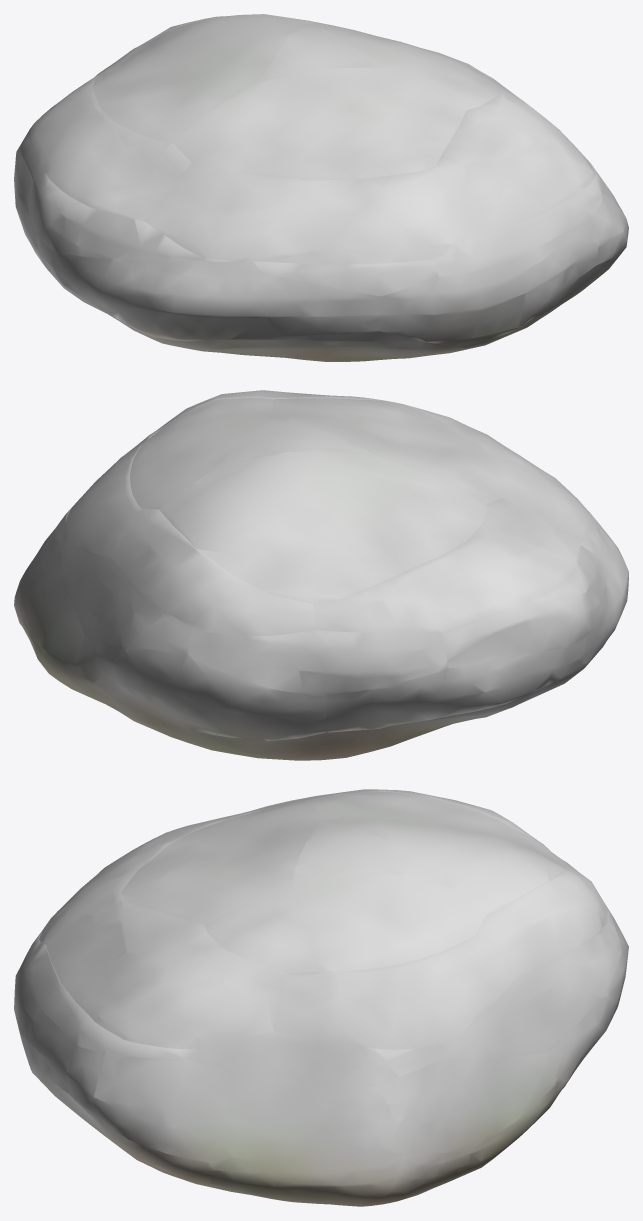
Rendered from coal_rock_v7.glb.
3 renders of one model, top to bottom at view 1: azimuth 30°, elevation 25°; view 2: azimuth 150°, elevation 25°; view 3: azimuth 270°, elevation 25°, orthographic. The views are drawn at different scales.
Parts seen in each view (by area): view 1: Chunk_23, Chunk_28, Chunk_10, Chunk_27, Chunk_24, Chunk_11, Chunk_22, Chunk_16, Chunk_04, Chunk_29, Chunk_18, Chunk_17 (+4 smaller); view 2: Chunk_27, Chunk_22, Chunk_08, Chunk_15, Chunk_21, Chunk_09, Chunk_28, Chunk_16, Chunk_29, Chunk_14, Chunk_23, Chunk_07 (+7 smaller); view 3: Chunk_24, Chunk_12, Chunk_29, Chunk_25, Chunk_07, Chunk_27, Chunk_28, Chunk_00, Chunk_14, Chunk_19, Chunk_21, Chunk_18 (+7 smaller).
Part boxes in pixels (left/top/right/bottom): Chunk_23: left=145, top=163, right=460, bottom=264; Chunk_28: left=173, top=67, right=466, bottom=178; Chunk_10: left=52, top=250, right=380, bottom=341; Chunk_27: left=93, top=14, right=312, bottom=143; Chunk_24: left=435, top=81, right=595, bottom=240; Chunk_11: left=378, top=219, right=598, bottom=347; Chunk_22: left=30, top=76, right=191, bottom=221; Chunk_16: left=15, top=130, right=204, bottom=261; Chunk_04: left=154, top=331, right=465, bottom=361; Chunk_29: left=310, top=21, right=498, bottom=110; Chunk_18: left=435, top=160, right=602, bottom=276; Chunk_17: left=204, top=259, right=438, bottom=296; Chunk_27: left=159, top=450, right=486, bottom=603; Chunk_22: left=312, top=498, right=580, bottom=632; Chunk_08: left=77, top=635, right=327, bottom=740; Chunk_15: left=187, top=628, right=448, bottom=696; Chunk_21: left=110, top=508, right=314, bottom=636; Chunk_09: left=325, top=638, right=585, bottom=732; Chunk_28: left=272, top=398, right=502, bottom=504; Chunk_16: left=441, top=522, right=607, bottom=668; Chunk_29: left=130, top=398, right=274, bottom=509; Chunk_14: left=60, top=540, right=191, bottom=654; Chunk_23: left=384, top=400, right=595, bottom=539; Chunk_07: left=21, top=529, right=84, bottom=665; Chunk_24: left=46, top=902, right=285, bottom=1049; Chunk_12: left=66, top=1045, right=329, bottom=1162; Chunk_29: left=204, top=872, right=486, bottom=973; Chunk_25: left=275, top=935, right=516, bottom=1049; Chunk_07: left=328, top=1053, right=555, bottom=1153; Chunk_27: left=303, top=791, right=564, bottom=914; Chunk_28: left=121, top=801, right=323, bottom=924; Chunk_00: left=209, top=1139, right=470, bottom=1206; Chunk_14: left=445, top=922, right=621, bottom=1058; Chunk_19: left=197, top=1031, right=448, bottom=1090; Chunk_21: left=475, top=852, right=609, bottom=976; Chunk_18: left=24, top=939, right=198, bottom=1059.
Bounding box in the file's own units: 3.14 × 1.39 × 2.99.
